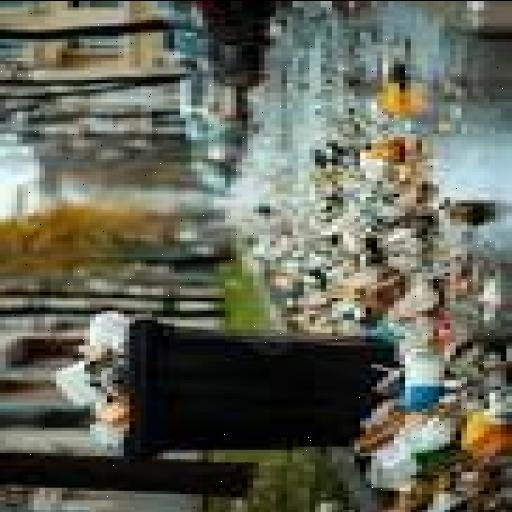poubelle_pleine: (56, 299, 394, 469)
